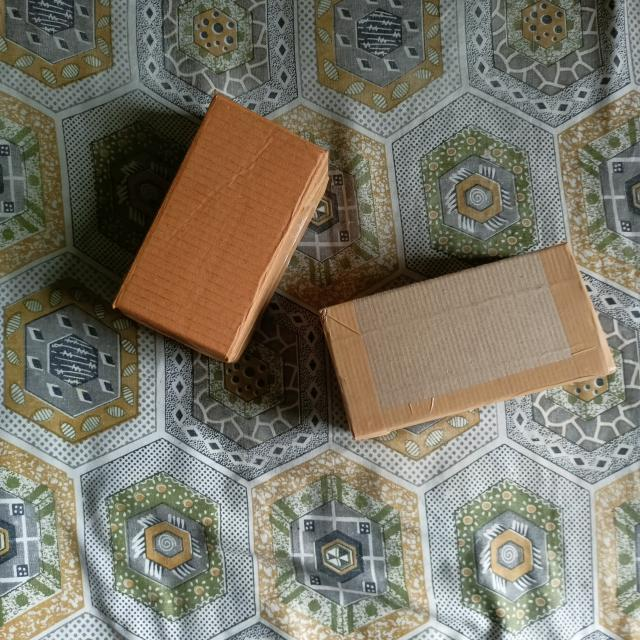box: (110, 89, 328, 364), (325, 242, 616, 441)
